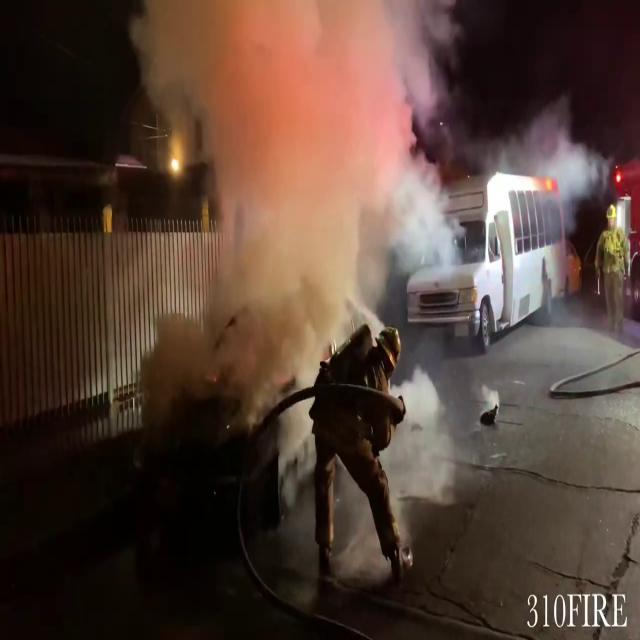Smoke: (122, 0, 462, 382)
